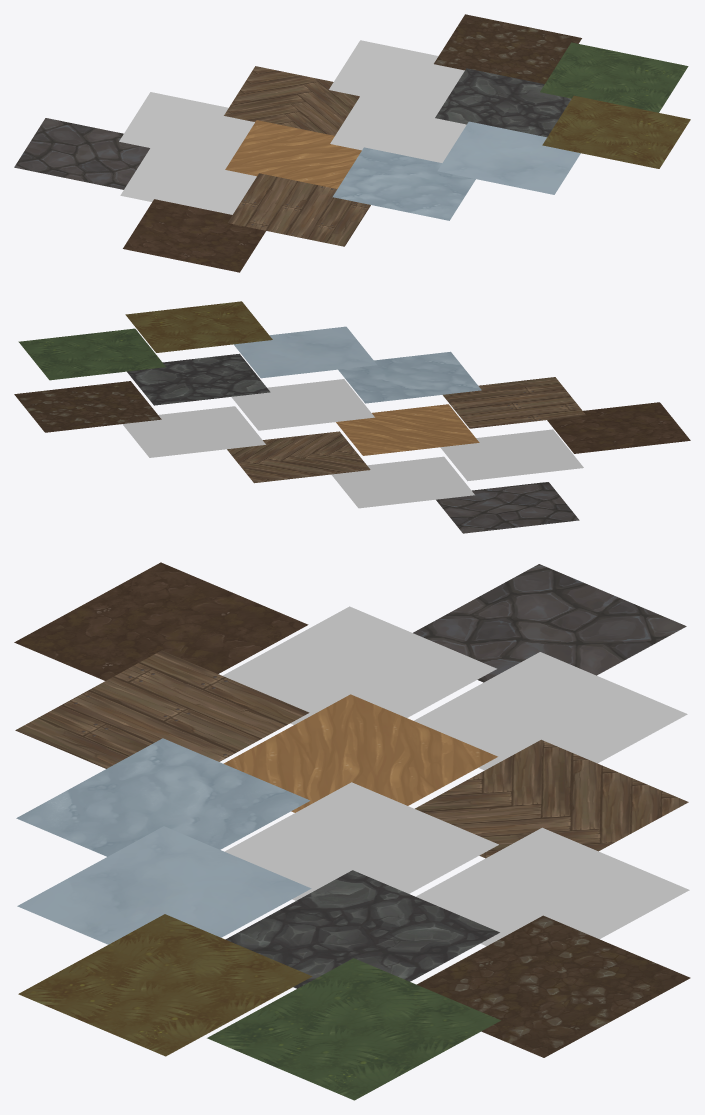
File: SF_preview.fbx
3 views of the same model, one above another, from view 1: azimuth 30°, elevation 25°; view 2: azimuth 150°, elevation 25°; view 3: azimuth 270°, elevation 25° (orthographic). The views are drawn at different scales.
Parts seen in each view (by area): view 1: Plane.014, Plane.011, Plane.013, Plane.012, Plane.005, Plane.006, Plane.004, Plane, Plane.002, Plane.001, Plane.003, Plane.007 (+3 smaller); view 2: Plane.011, Plane.014, Plane.004, Plane.008, Plane.006, Plane.013, Plane.002, Plane.009, Plane.010, Plane.012, Plane, Plane.001 (+3 smaller); view 3: Plane.014, Plane.011, Plane.004, Plane.006, Plane.012, Plane.013, Plane.005, Plane.007, Plane.010, Plane.008, Plane, Plane.009 (+3 smaller).
Part boxes in pixels (box(x1,y1,x2,y2)): Plane.014: box(542, 95, 690, 168); Plane.011: box(540, 42, 688, 112); Plane.013: box(437, 121, 580, 194); Plane.012: box(332, 147, 475, 220); Plane.005: box(123, 199, 265, 272); Plane.006: box(228, 173, 370, 246); Plane.004: box(434, 14, 581, 83); Plane: box(14, 118, 149, 189); Plane.002: box(224, 66, 359, 135); Plane.001: box(119, 92, 254, 161); Plane.003: box(329, 40, 464, 109); Plane.007: box(120, 146, 256, 214); Plane.011: box(18, 328, 165, 380); Plane.014: box(125, 301, 272, 352); Plane.004: box(14, 381, 161, 432); Plane.008: box(336, 404, 479, 455); Plane.006: box(443, 377, 586, 428); Plane.013: box(233, 326, 377, 378); Plane.002: box(227, 431, 370, 483); Plane.009: box(231, 379, 374, 430); Plane.010: box(127, 353, 270, 405); Plane.012: box(338, 351, 481, 403); Plane: box(436, 482, 579, 533); Plane.001: box(331, 456, 474, 508); Plane.014: box(18, 914, 312, 1056); Plane.011: box(207, 958, 500, 1100); Plane.004: box(417, 915, 690, 1057); Plane.006: box(15, 650, 309, 768); Plane.012: box(16, 738, 310, 856); Plane.013: box(17, 826, 311, 944); Plane.005: box(14, 562, 308, 680); Plane.007: box(222, 606, 496, 724); Plane.010: box(225, 870, 499, 988); Plane.008: box(223, 694, 497, 812); Plane: box(413, 564, 686, 682); Plane.009: box(224, 782, 498, 900).
Bounding box in the file's own units: 1376 × 22.23 × 757.
